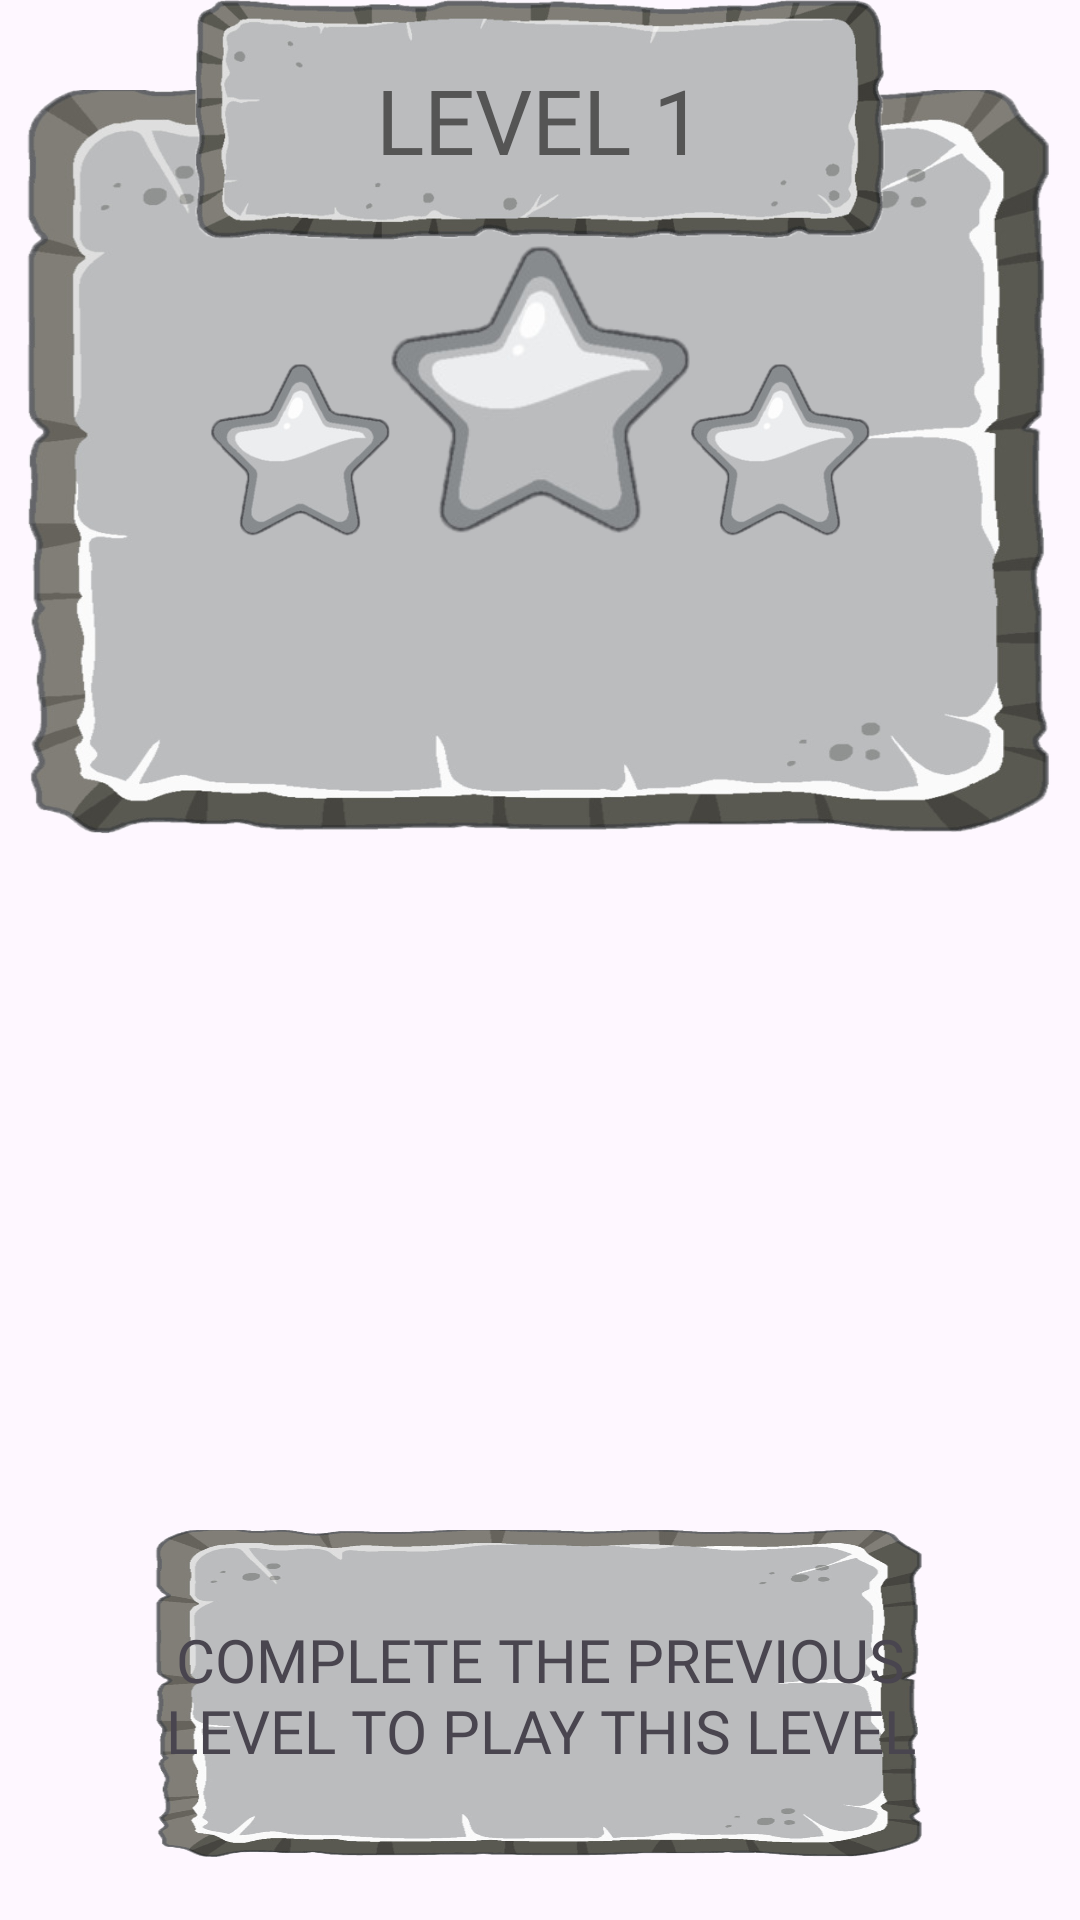

Icons on this 1080×1920 Android screen, each with its box as (x1, y1, x2, y2):
levelstarfailed: (391, 247, 689, 533), (211, 364, 389, 536), (691, 364, 870, 536)
